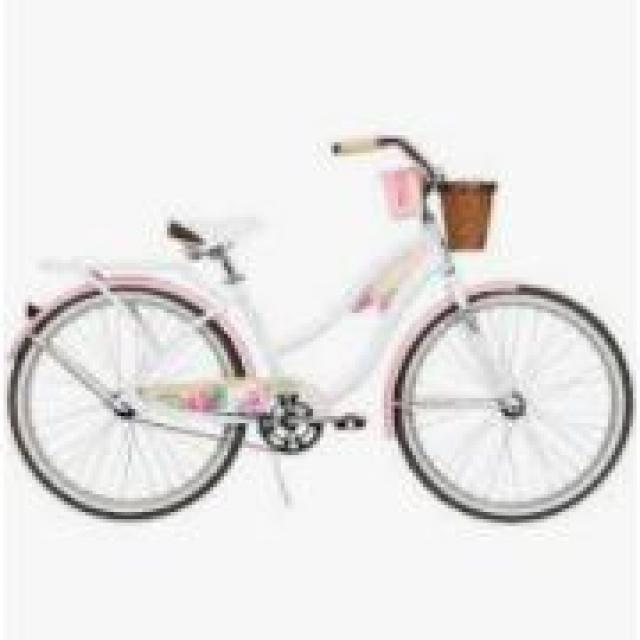bicycle: (8, 115, 634, 506)
